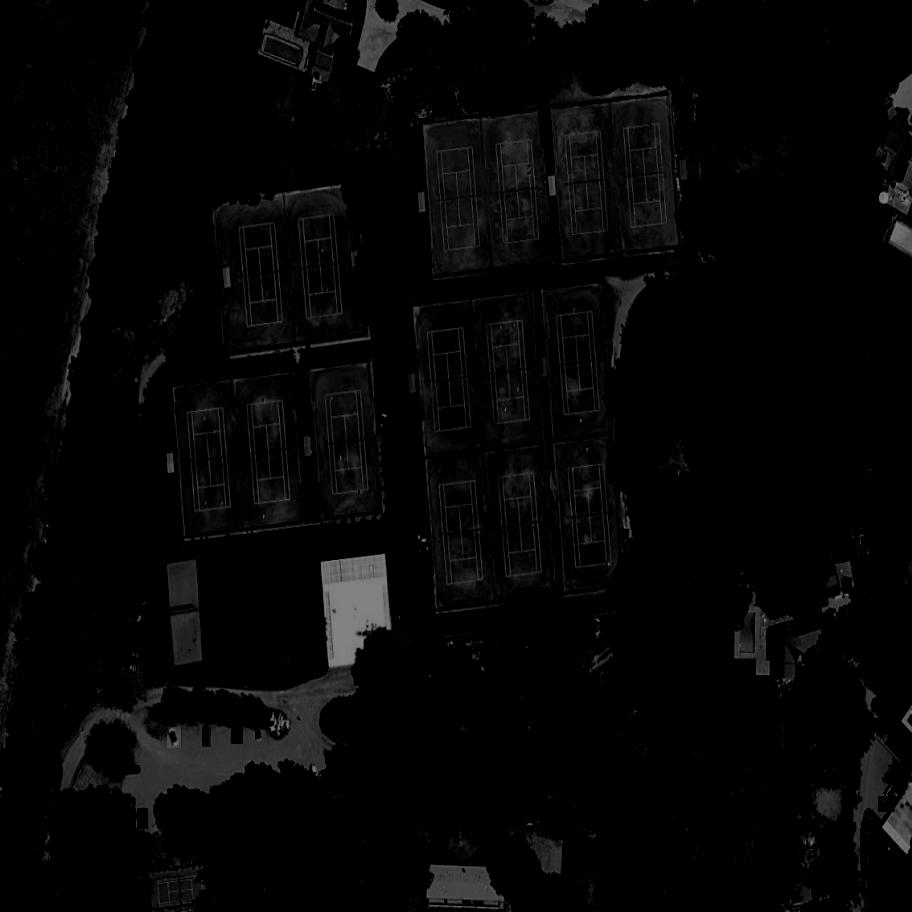small-vehicle: (446, 639, 467, 666), (168, 727, 183, 749), (876, 797, 895, 813), (232, 723, 245, 745), (138, 808, 149, 830), (123, 613, 142, 625), (129, 597, 146, 608), (202, 727, 211, 747), (593, 618, 601, 640)
